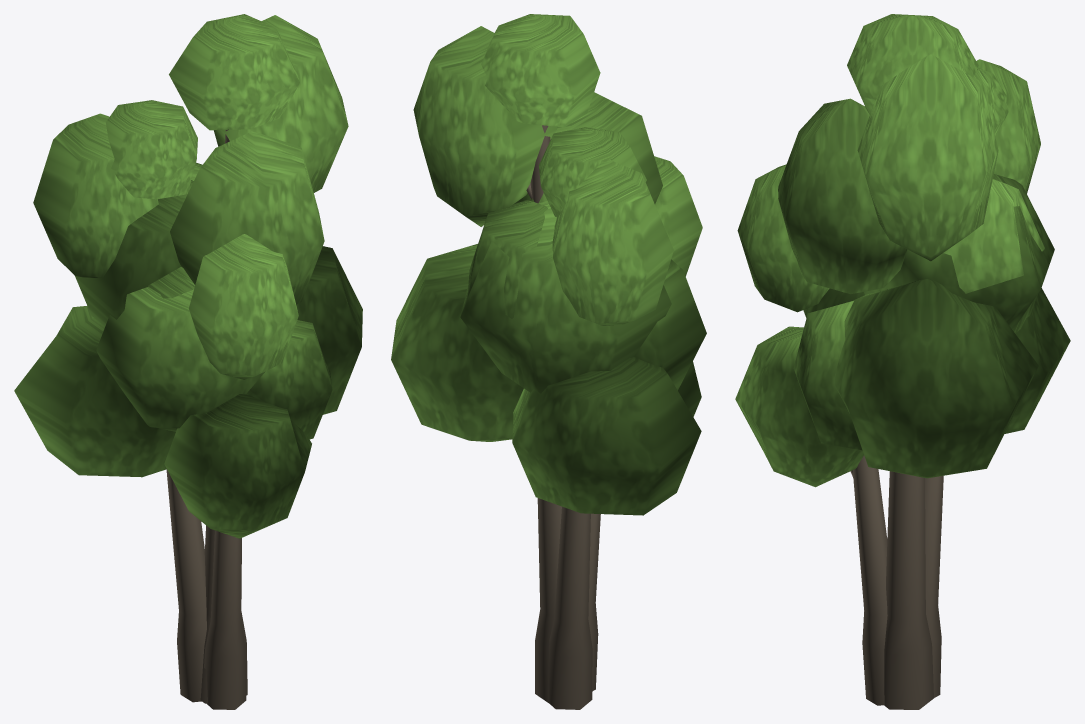
The model's file is river-tree-alder.glb.
3 views of the same model, side by side, from view 1: azimuth 30°, elevation 25°; view 2: azimuth 150°, elevation 25°; view 3: azimuth 270°, elevation 25° (orthographic). The views are drawn at different scales.
Visible parts, largest first — view 1: Crown, Trunk; view 2: Crown, Trunk; view 3: Crown, Trunk.
Part boxes in pixels (x1=…): Crown: x1=14, y1=14, x2=362, y2=538; Trunk: x1=166, y1=129, x2=247, y2=709; Crown: x1=391, y1=14, x2=706, y2=515; Trunk: x1=526, y1=125, x2=600, y2=709; Crown: x1=735, y1=14, x2=1070, y2=487; Trunk: x1=850, y1=455, x2=943, y2=709.
Bounding box in the file's own units: 4.84 × 10.1 × 4.42.
Materials: 2 (1 with a texture image).
